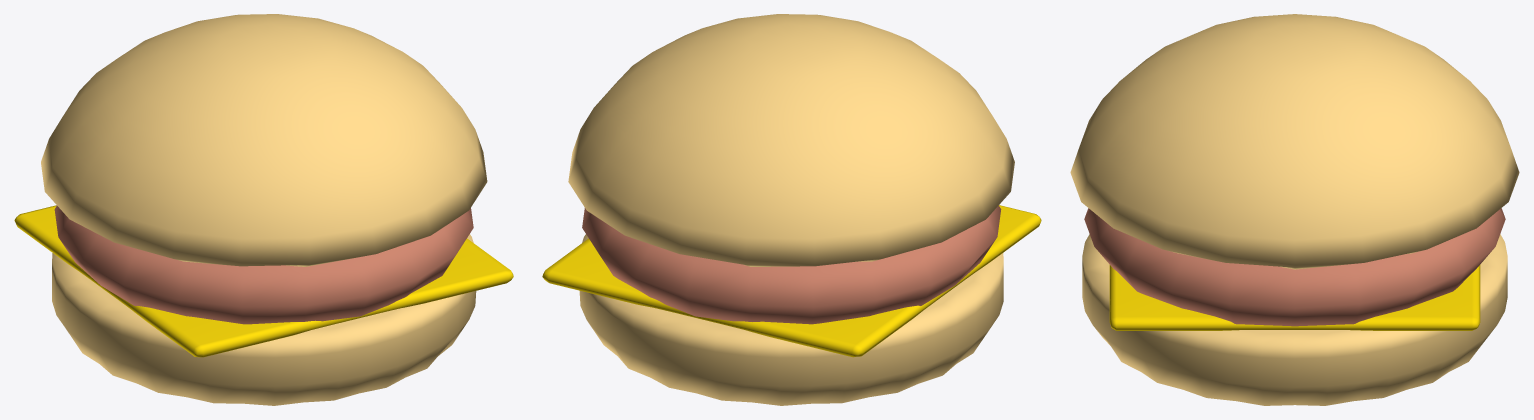
File: burger.fbx
3 views of the same model, side by side, from view 1: azimuth 30°, elevation 25°; view 2: azimuth 150°, elevation 25°; view 3: azimuth 270°, elevation 25° (orthographic).
Parts seen in each view (by area): view 1: pSphere2; view 2: pSphere2; view 3: pSphere2.
Part boxes in pixels (x1,y1,x2,y2): pSphere2: [14, 14, 513, 405]; pSphere2: [542, 14, 1041, 405]; pSphere2: [1070, 14, 1519, 405].
Bounding box in the file's own units: 1.88 × 1.36 × 1.88.
